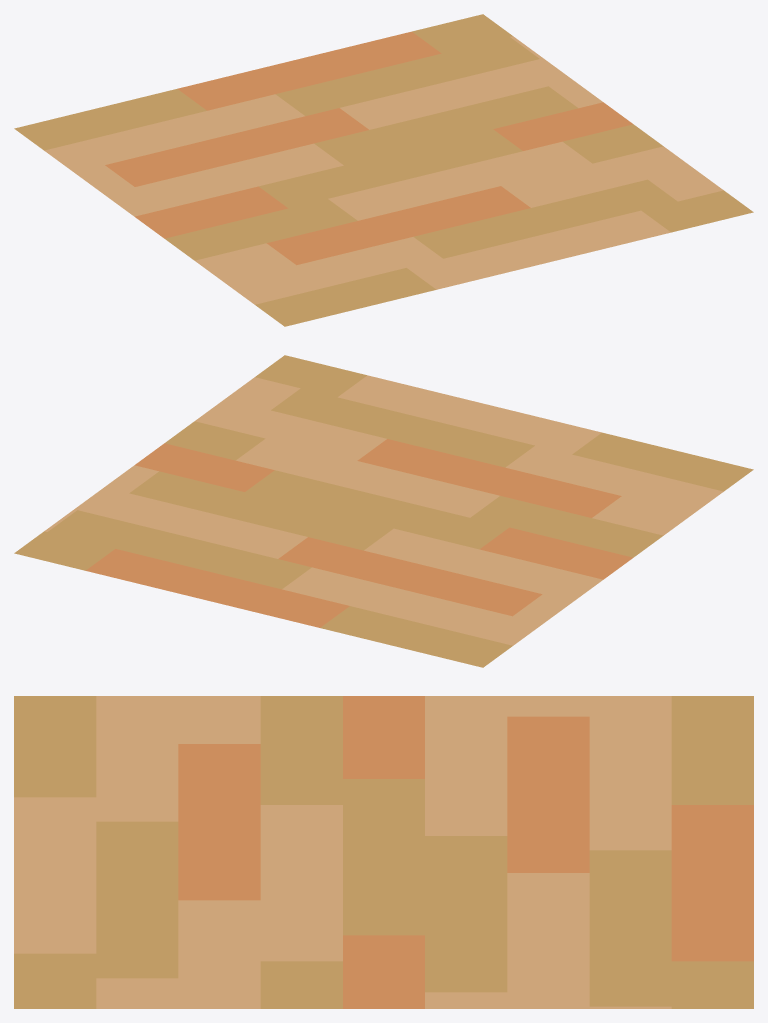
Rendered from Floor 2.fbx.
3 views of the same model, one above another, from view 1: azimuth 30°, elevation 25°; view 2: azimuth 150°, elevation 25°; view 3: azimuth 270°, elevation 25° (orthographic). The views are drawn at different scales.
Parts seen in each view (by area): view 1: Plane; view 2: Plane; view 3: Plane.
Boxes of the visible parts, x1,y1,x2,y2 form: Plane: (14,14,753,326); Plane: (14,355,753,667); Plane: (14,696,753,1008).
Size of the model in its own units: 300 by 0 by 300.
